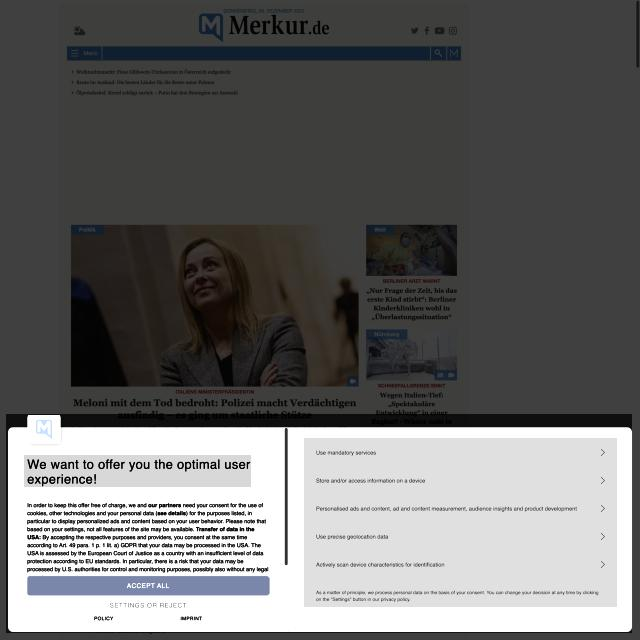CheckBox: (26, 575, 269, 596), (108, 600, 188, 611)
QR code: (304, 438, 617, 607)
date picker: (28, 415, 60, 443)
header: (6, 414, 632, 633)
image: (24, 455, 251, 487)
